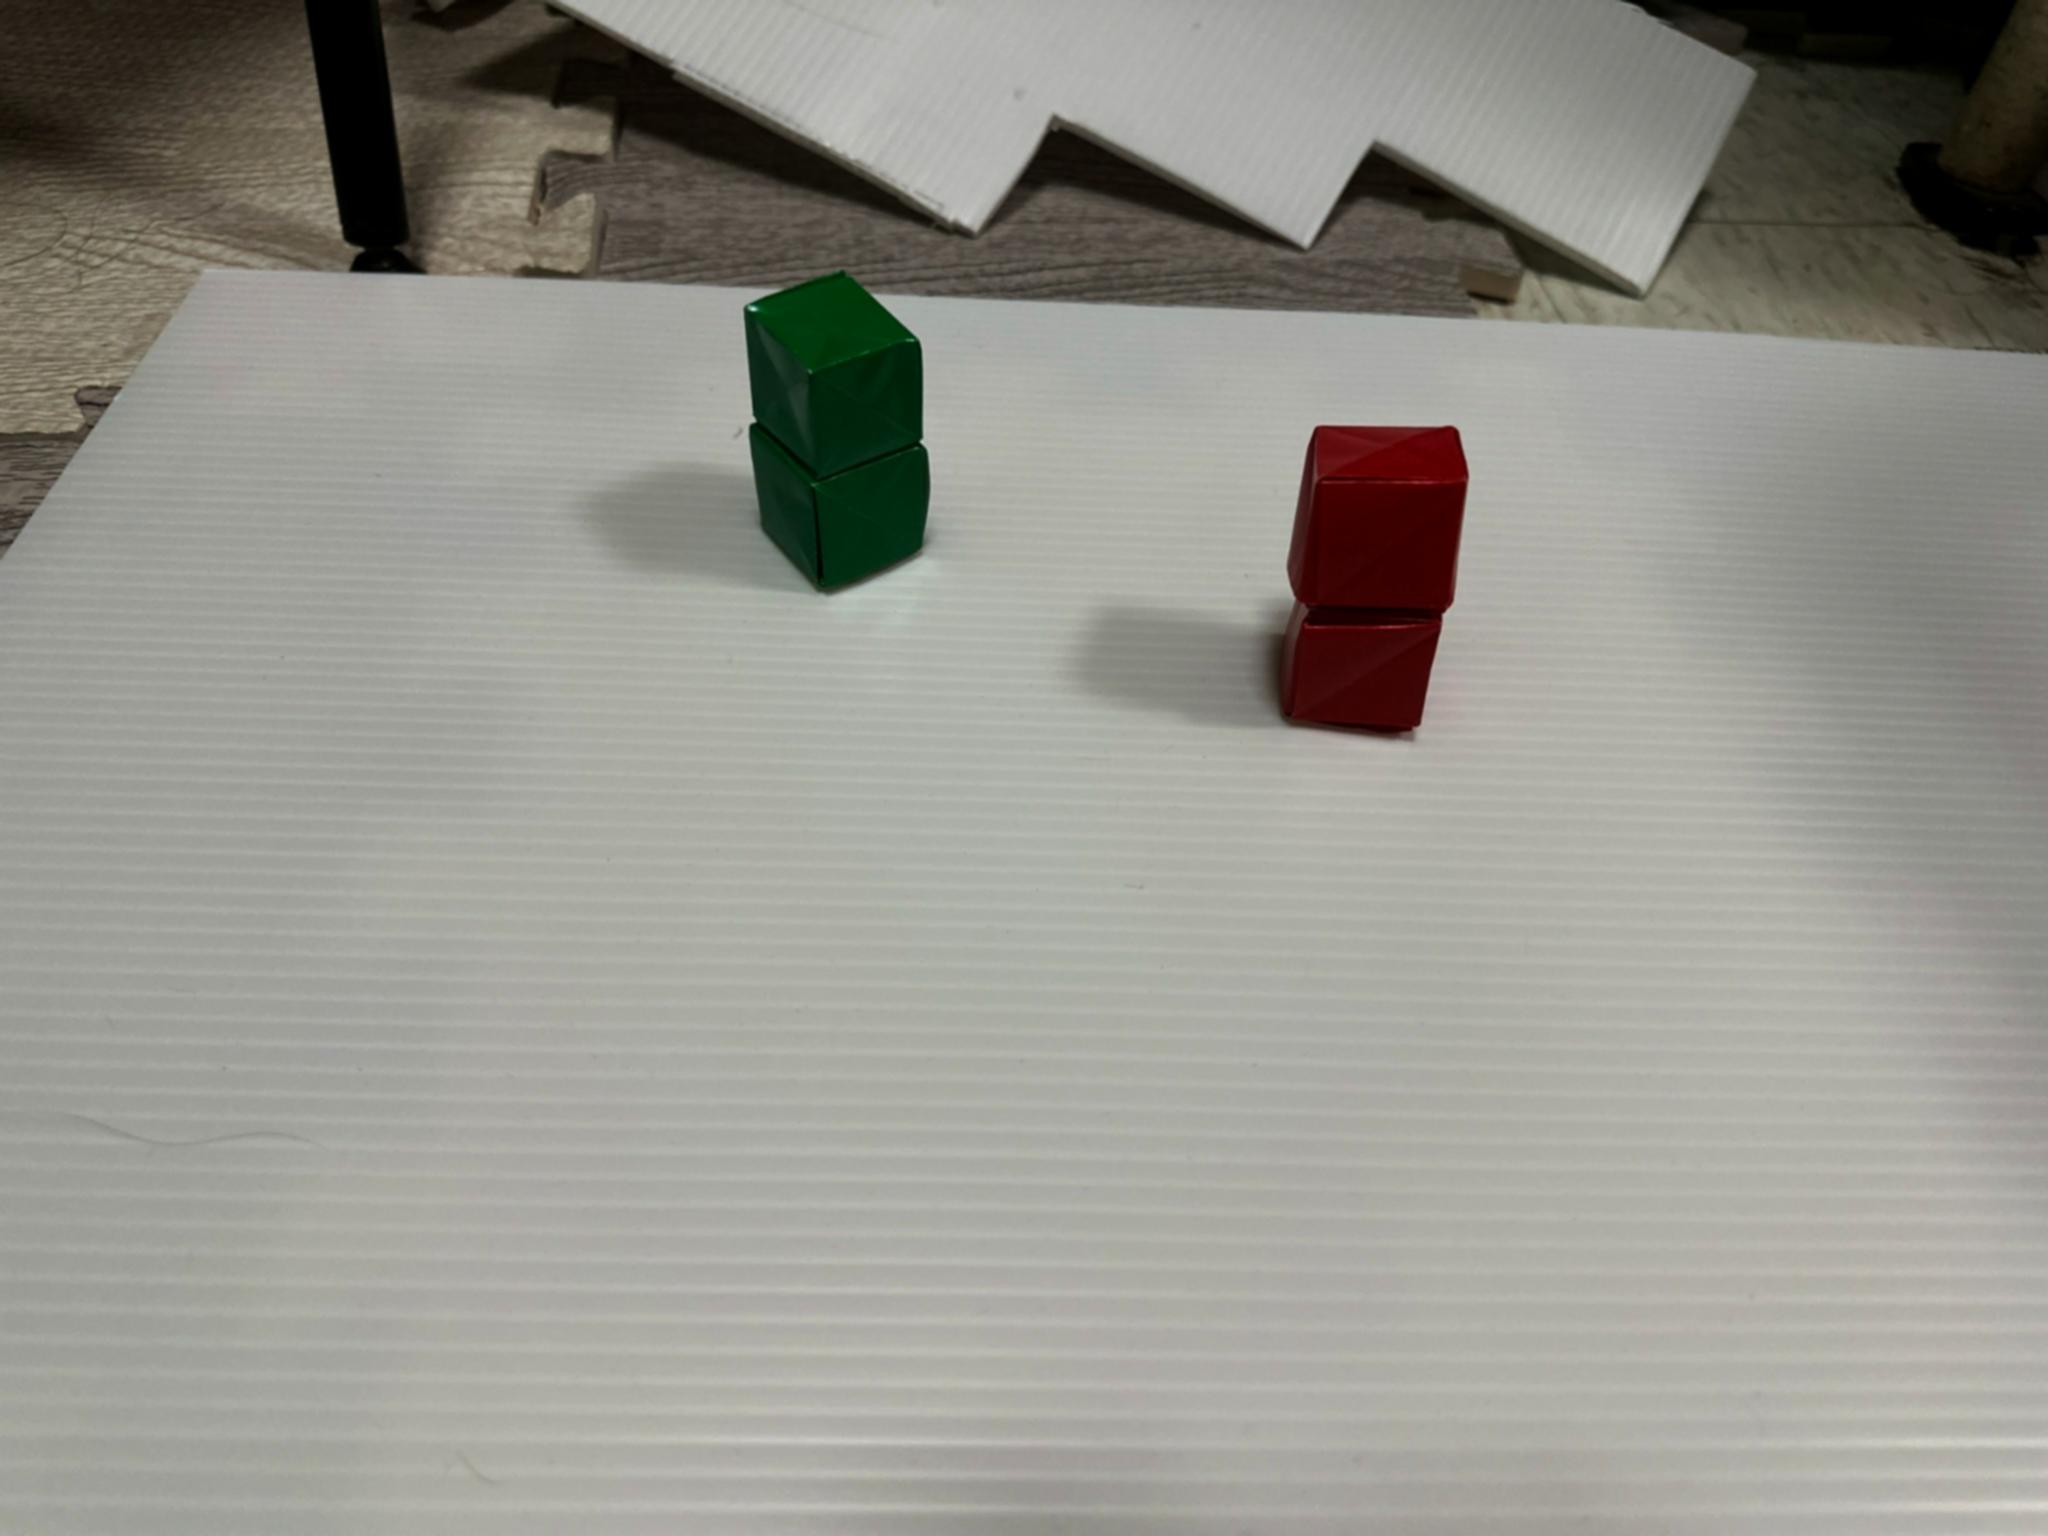cube: (747, 273, 924, 481), (1288, 428, 1469, 610), (750, 423, 929, 587), (1279, 603, 1440, 731)
